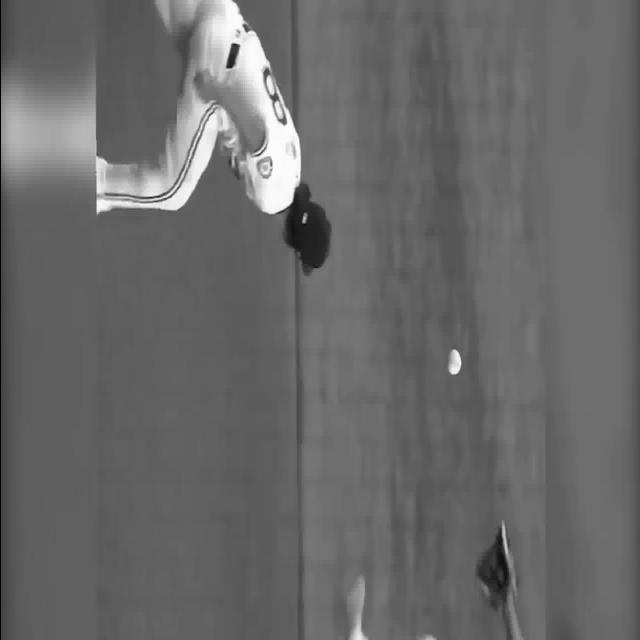baseball: (446, 349, 460, 376)
baseball_glove: (475, 522, 515, 611)
